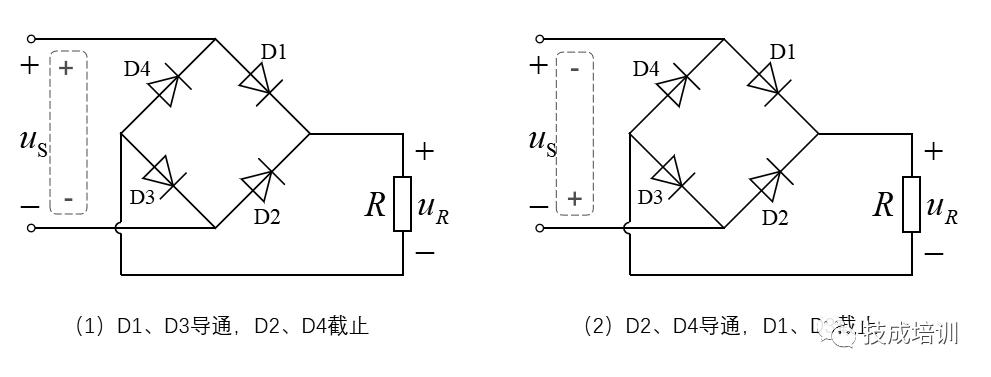bridge: (116, 29, 313, 237), (628, 30, 820, 236)
res1: (898, 170, 925, 237), (391, 172, 416, 236)
